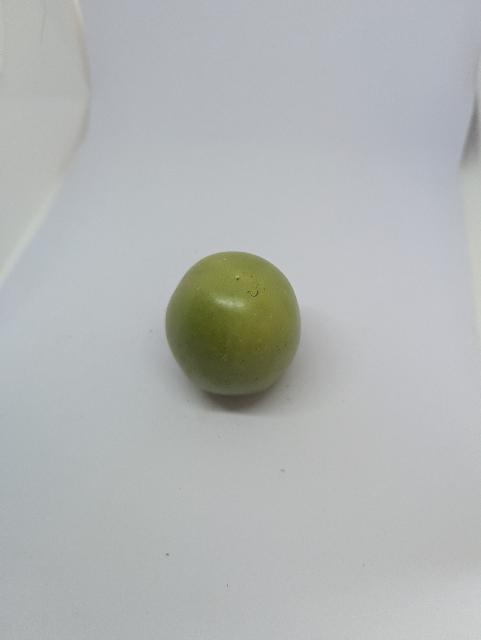green: (153, 212, 317, 409)
